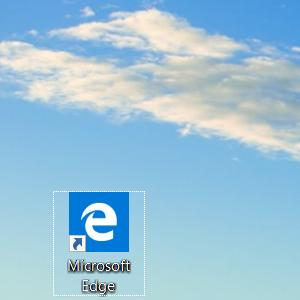edge: (69, 192, 129, 252)
